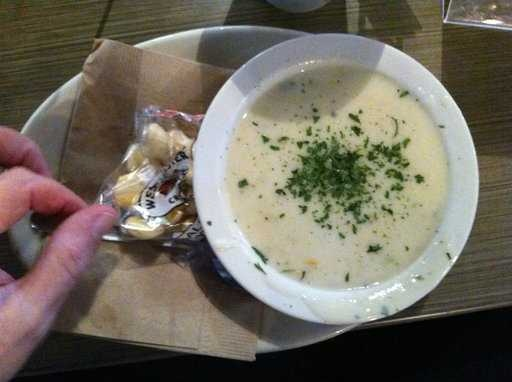soup: (230, 69, 433, 287)
